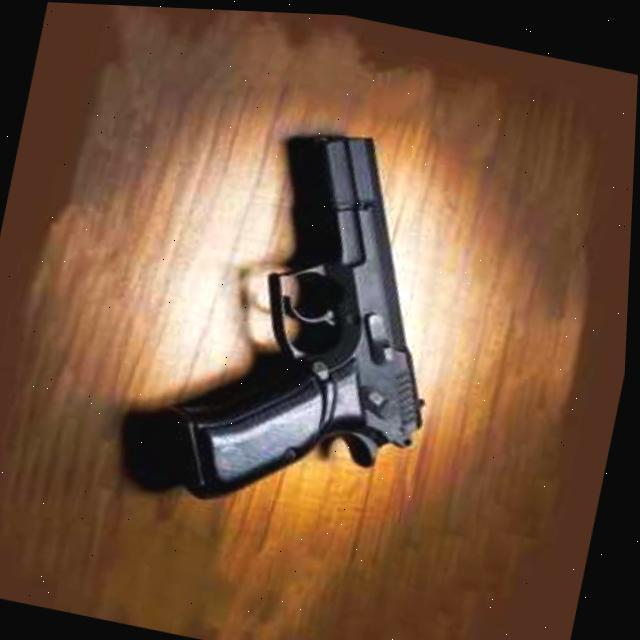gun: (170, 108, 480, 540)
